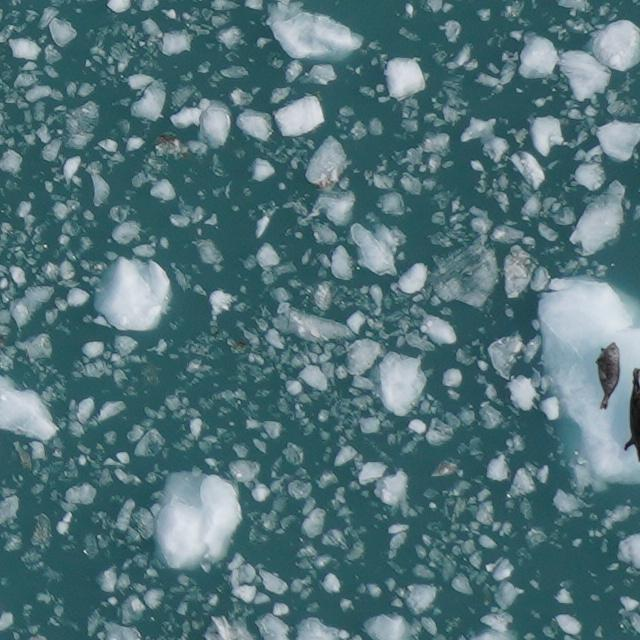seal: (595, 340, 619, 408), (626, 369, 639, 460)
